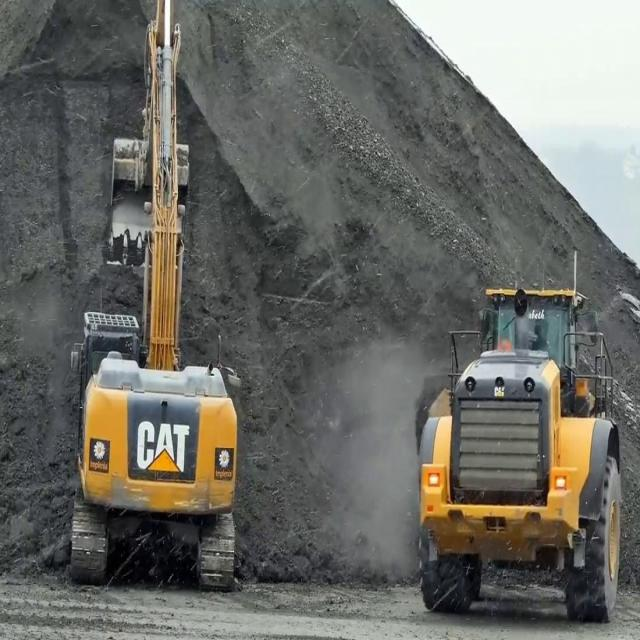Excavator: (69, 0, 237, 596)
Loader: (416, 249, 622, 627)
